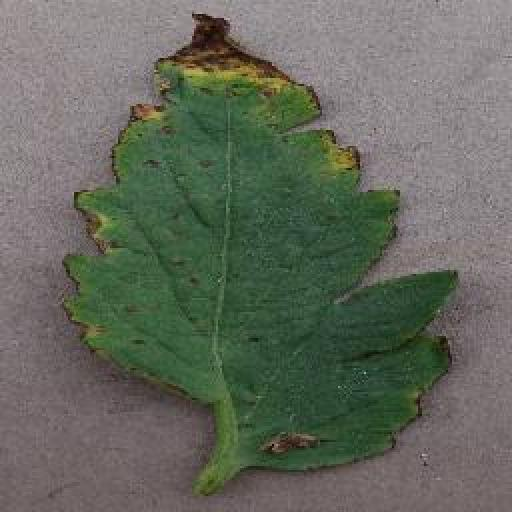Bacterial Spot: (57, 3, 463, 476)
